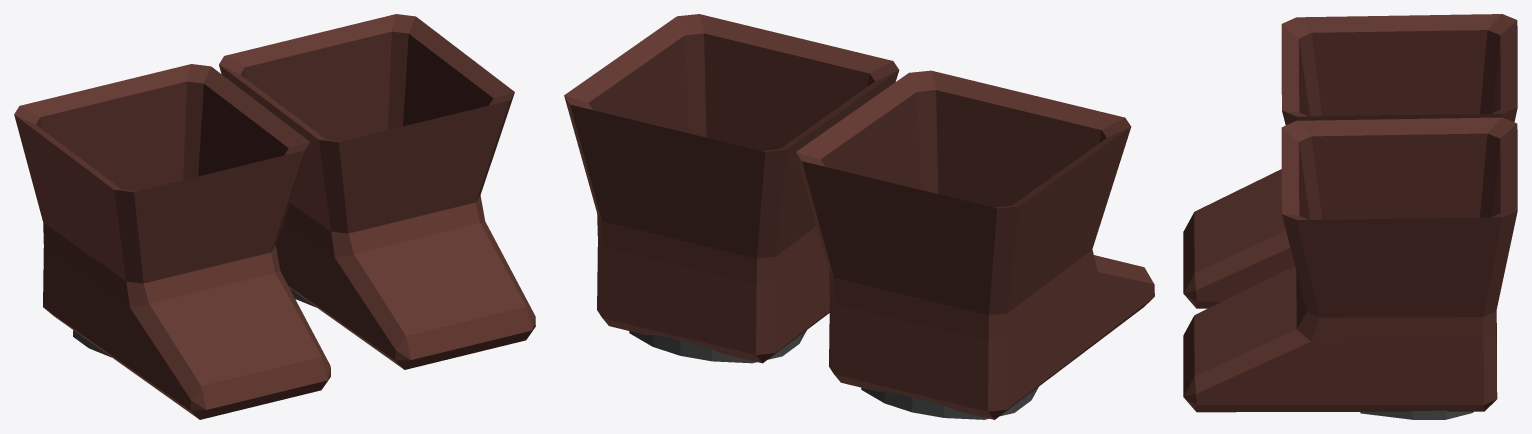
The model's file is shoes_with_shoe.fbx.
3 views of the same model, side by side, from view 1: azimuth 30°, elevation 25°; view 2: azimuth 150°, elevation 25°; view 3: azimuth 270°, elevation 25° (orthographic). The views are drawn at different scales.
Parts seen in each view (by area): view 1: shoes.001; view 2: shoes.001; view 3: shoes.001.
Boxes of the visible parts, box(x1,y1,x2,y2) form: shoes.001: box(14, 14, 535, 419); shoes.001: box(564, 14, 1154, 419); shoes.001: box(1183, 14, 1517, 419).
Size of the model in its own units: 26.21 by 13.17 by 18.24.
